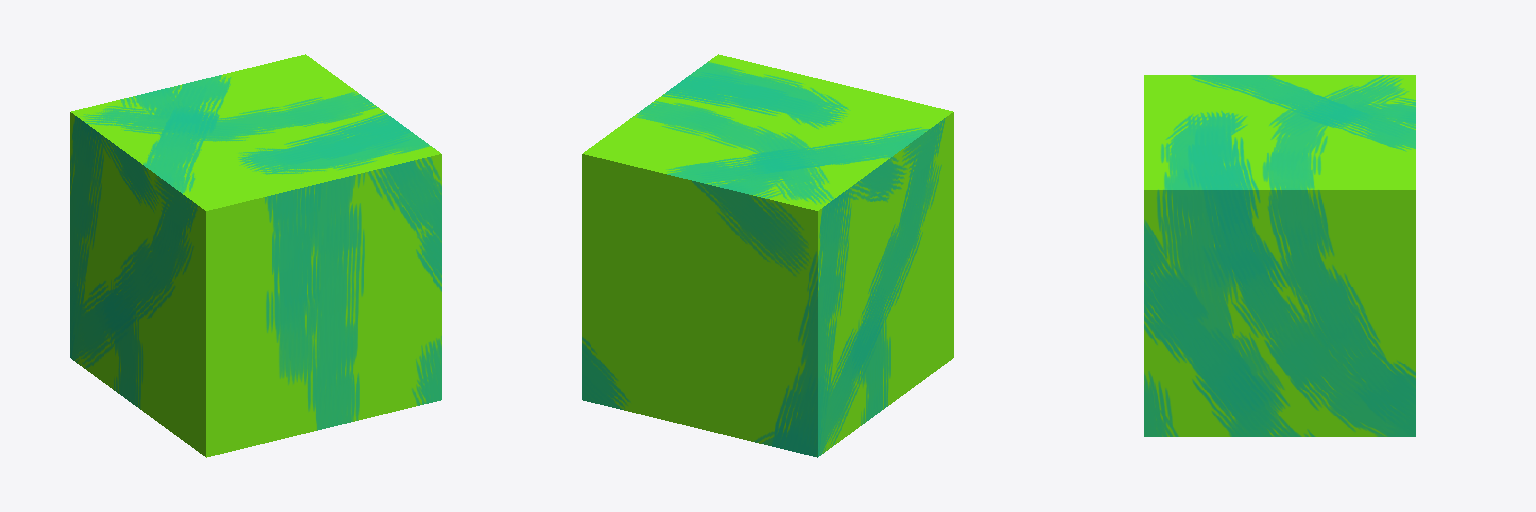
3 views of the same model, side by side, from view 1: azimuth 30°, elevation 25°; view 2: azimuth 150°, elevation 25°; view 3: azimuth 270°, elevation 25° (orthographic).
Visible parts, largest first — view 1: Cube; view 2: Cube; view 3: Cube.
Part boxes in pixels (x1,y1,x2,y2): Cube: (70, 54, 441, 457); Cube: (582, 54, 953, 457); Cube: (1144, 75, 1415, 436).
Bounding box in the file's own units: 2 × 2 × 2.
1 materials, 1 textured.